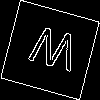W: (25, 24, 81, 82)
